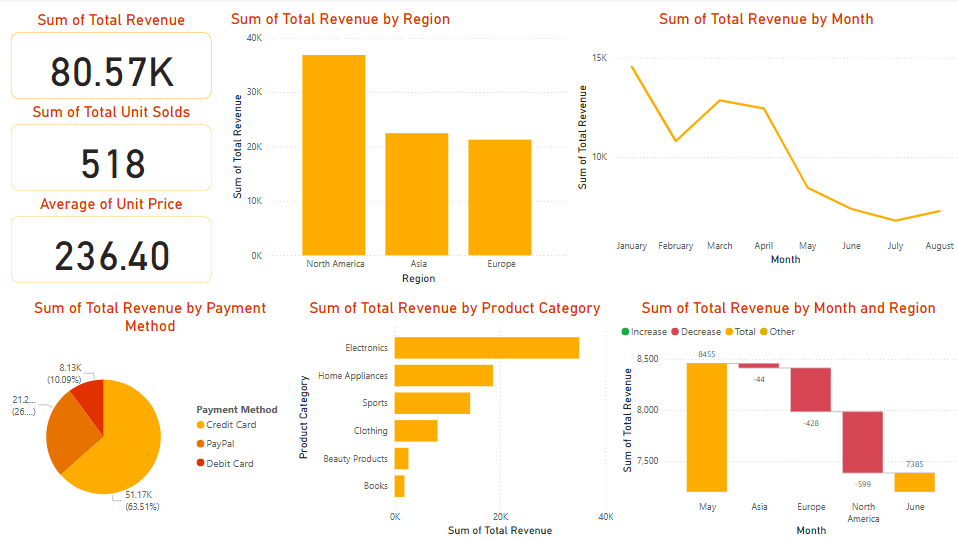

What the dashboard file says about the page in this screenshot:
{"tool":"powerbi","page":{"name":"Page 1","canvas":[1280,720],"ordinal":0},"visuals":[{"type":"cardVisual","title":"Sum of Total Revenue","fields":{"Data":["Sum(Online Sales Data.Total Revenue)"]},"box":[13.4,16.8,277.2,122.6],"z":0},{"type":"cardVisual","title":"Sum of Total Unit Solds","fields":{"Data":["Sum(Online Sales Data.Units Sold)"]},"box":[13.4,139.4,277.2,122.6],"z":1},{"type":"cardVisual","title":"Average of Unit Price","fields":{"Data":["Avg(Online Sales Data.Unit Price)"]},"box":[13.4,262,277.2,122.6],"z":2},{"type":"clusteredBarChart","fields":{"Category":["Online Sales Data.Product Category"],"Y":["Sum(Online Sales Data.Total Revenue)"]},"box":[393.7,399.5,430.2,320.5],"z":3},{"type":"clusteredColumnChart","fields":{"Y":["Sum(Online Sales Data.Total Revenue)"],"Category":["Online Sales Data.Region"]},"box":[305.9,16.1,458,368.8],"z":4},{"type":"pieChart","fields":{"Category":["Online Sales Data.Payment Method"],"Y":["Sum(Online Sales Data.Total Revenue)"]},"box":[13.2,399.5,380.5,320.5],"z":5},{"type":"lineChart","fields":{"Y":["Sum(Online Sales Data.Total Revenue)"],"Category":["Online Sales Data.Date.Variation.Date Hierarchy.Month"]},"box":[763.9,16.1,516.6,343.9],"z":7},{"type":"waterfallChart","fields":{"Category":["Online Sales Data.Date.Variation.Date Hierarchy.Month"],"Breakdown":["Online Sales Data.Region"],"Y":["Sum(Online Sales Data.Total Revenue)"]},"box":[823.9,399.5,456.6,320.5],"z":8}]}

Visuals, with their boxes in screenshot pixels (x1, y1, x2, y2), scaled from the page's 1280x720 canvas onto the 958x539 screenshot:
"Sum of Total Revenue" cardVisual: <box>10,13,217,104</box>
"Sum of Total Unit Solds" cardVisual: <box>10,104,217,196</box>
"Average of Unit Price" cardVisual: <box>10,196,217,288</box>
clusteredBarChart - Online Sales Data.Product Category x Sum(Online Sales Data.Total Revenue): <box>295,299,617,538</box>
clusteredColumnChart - Sum(Online Sales Data.Total Revenue) x Online Sales Data.Region: <box>229,12,572,288</box>
pieChart - Online Sales Data.Payment Method x Sum(Online Sales Data.Total Revenue): <box>10,299,295,538</box>
lineChart - Sum(Online Sales Data.Total Revenue) x Online Sales Data.Date.Variation.Date Hierarchy.Month: <box>572,12,957,270</box>
waterfallChart - Online Sales Data.Date.Variation.Date Hierarchy.Month x Online Sales Data.Region: <box>617,299,957,538</box>
